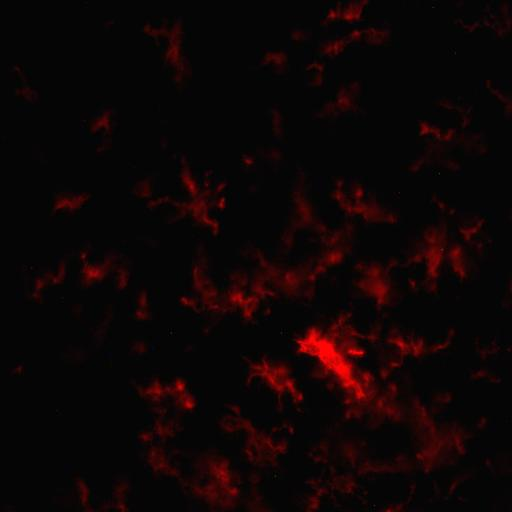microglia: (295, 325, 375, 416), (146, 174, 227, 236), (221, 404, 297, 464), (244, 350, 306, 411), (413, 405, 468, 473), (230, 250, 274, 326), (331, 180, 395, 229), (188, 453, 242, 511), (405, 222, 448, 291), (282, 167, 319, 247), (303, 471, 368, 512), (146, 25, 191, 84), (186, 261, 228, 322), (135, 376, 199, 414), (455, 2, 512, 40), (381, 330, 428, 376), (320, 79, 364, 124), (356, 257, 394, 307), (326, 419, 366, 464), (280, 250, 316, 298), (29, 257, 67, 300), (136, 414, 183, 446), (90, 103, 118, 155), (372, 385, 403, 430), (486, 77, 512, 130), (144, 448, 182, 484), (52, 186, 92, 218), (364, 452, 412, 478), (256, 43, 290, 78), (326, 0, 378, 22), (349, 25, 390, 51), (318, 227, 342, 271), (13, 64, 38, 106), (443, 96, 475, 128), (108, 251, 133, 291), (457, 213, 487, 244), (419, 120, 454, 145), (474, 337, 512, 360), (448, 244, 469, 282), (432, 326, 460, 354), (300, 58, 325, 84), (268, 107, 284, 138), (82, 262, 104, 284), (136, 291, 152, 319), (320, 40, 343, 59), (473, 370, 500, 386), (236, 153, 254, 167), (104, 18, 114, 30)
